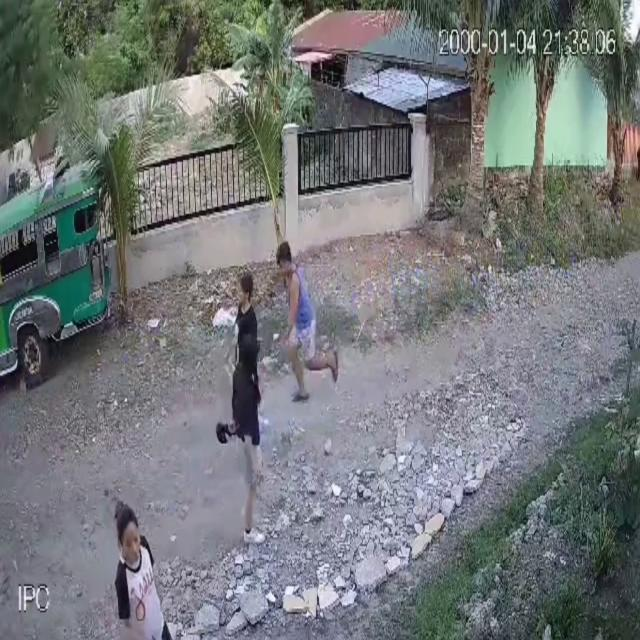running: (272, 240, 342, 403)
walking: (220, 268, 273, 478), (108, 492, 172, 640), (230, 330, 272, 548)
